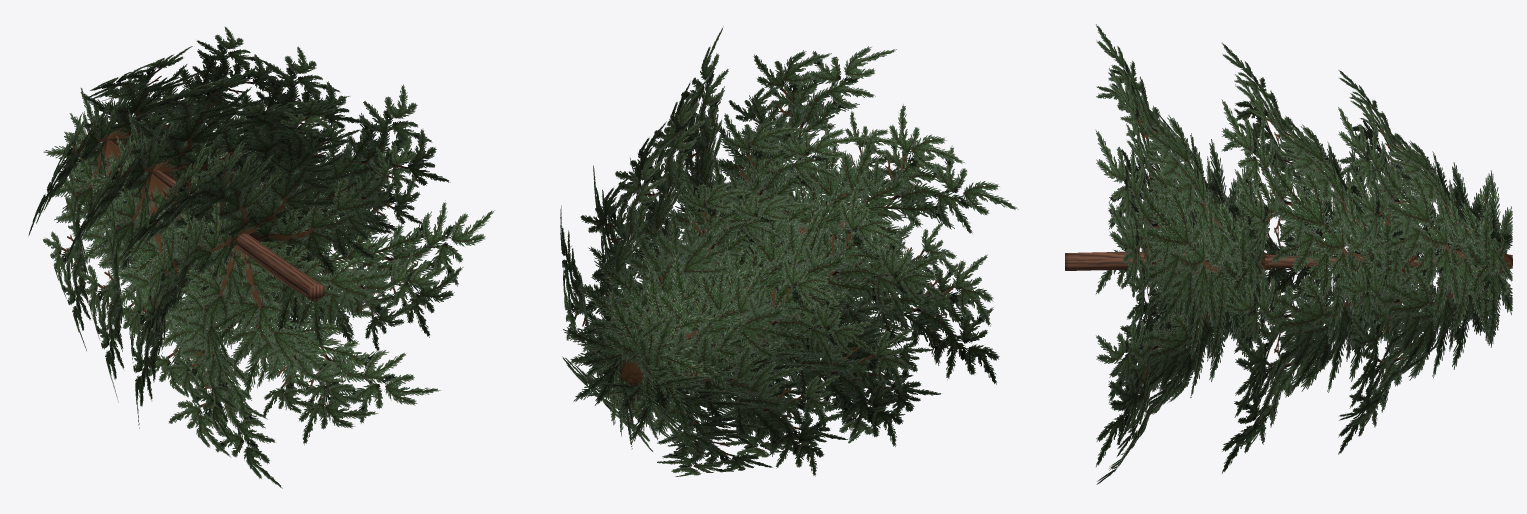
Rendered from NewTree1.fbx.
3 renders of one model, left to right at view 1: azimuth 30°, elevation 25°; view 2: azimuth 150°, elevation 25°; view 3: azimuth 270°, elevation 25°, orthographic. The views are drawn at different scales.
Parts seen in each view (by area): view 1: Tree1; view 2: Tree1; view 3: Tree1.
Part boxes in pixels (x1=…): Tree1: x1=28, y1=26, x2=494, y2=488; Tree1: x1=560, y1=26, x2=1018, y2=476; Tree1: x1=1065, y1=24, x2=1512, y2=484.
Bounding box in the file's own units: 1084 × 1089 × 1007.
